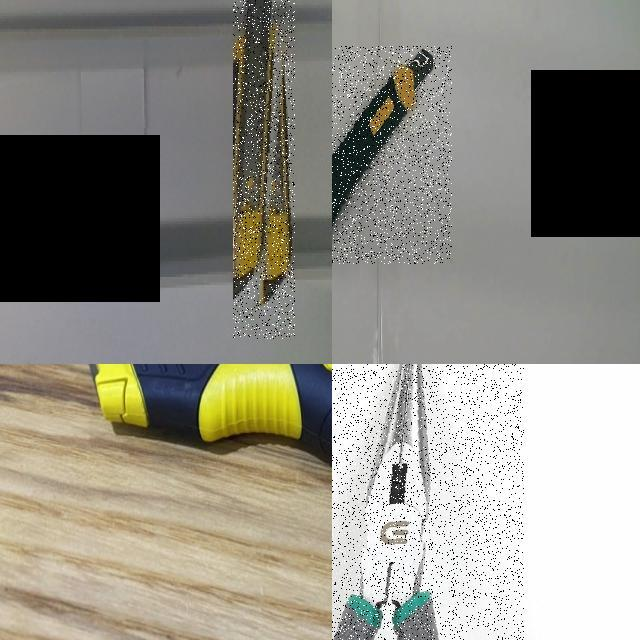estilete: (333, 50, 433, 225)
